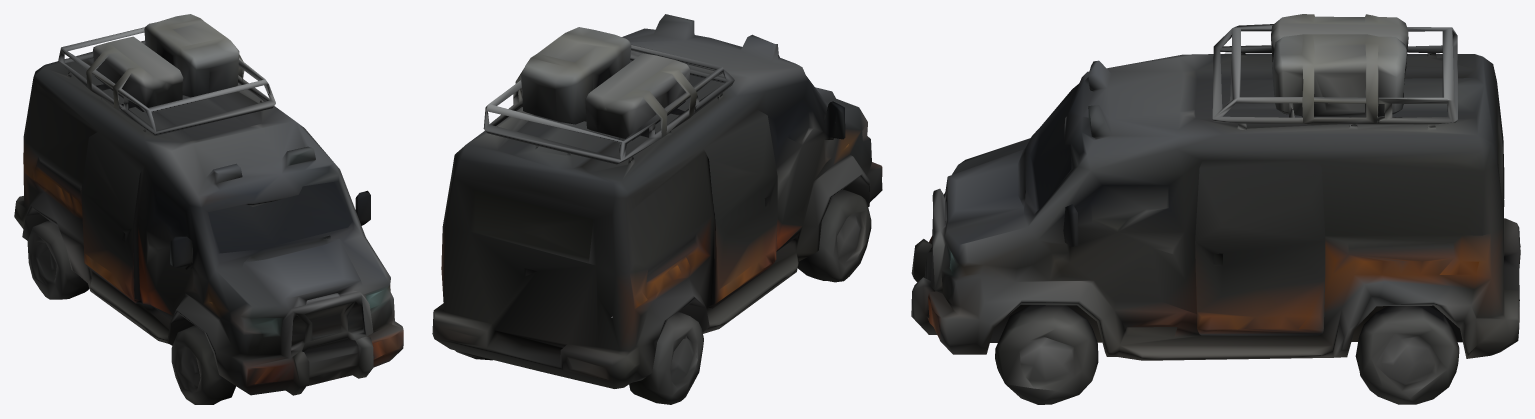
The model's file is armored_van_lo.glb.
The picture shows the model from 3 angles, left to right: view 1: azimuth 30°, elevation 25°; view 2: azimuth 150°, elevation 25°; view 3: azimuth 270°, elevation 25°; orthographic projection. The views are drawn at different scales.
Parts seen in each view (by area): view 1: car; view 2: car; view 3: car.
Part boxes in pixels (x1=…): car: x1=14, y1=14, x2=403, y2=404; car: x1=432, y1=14, x2=882, y2=404; car: x1=911, y1=14, x2=1520, y2=404.
Size of the model in its own units: 2.53 by 3.13 by 5.4.
